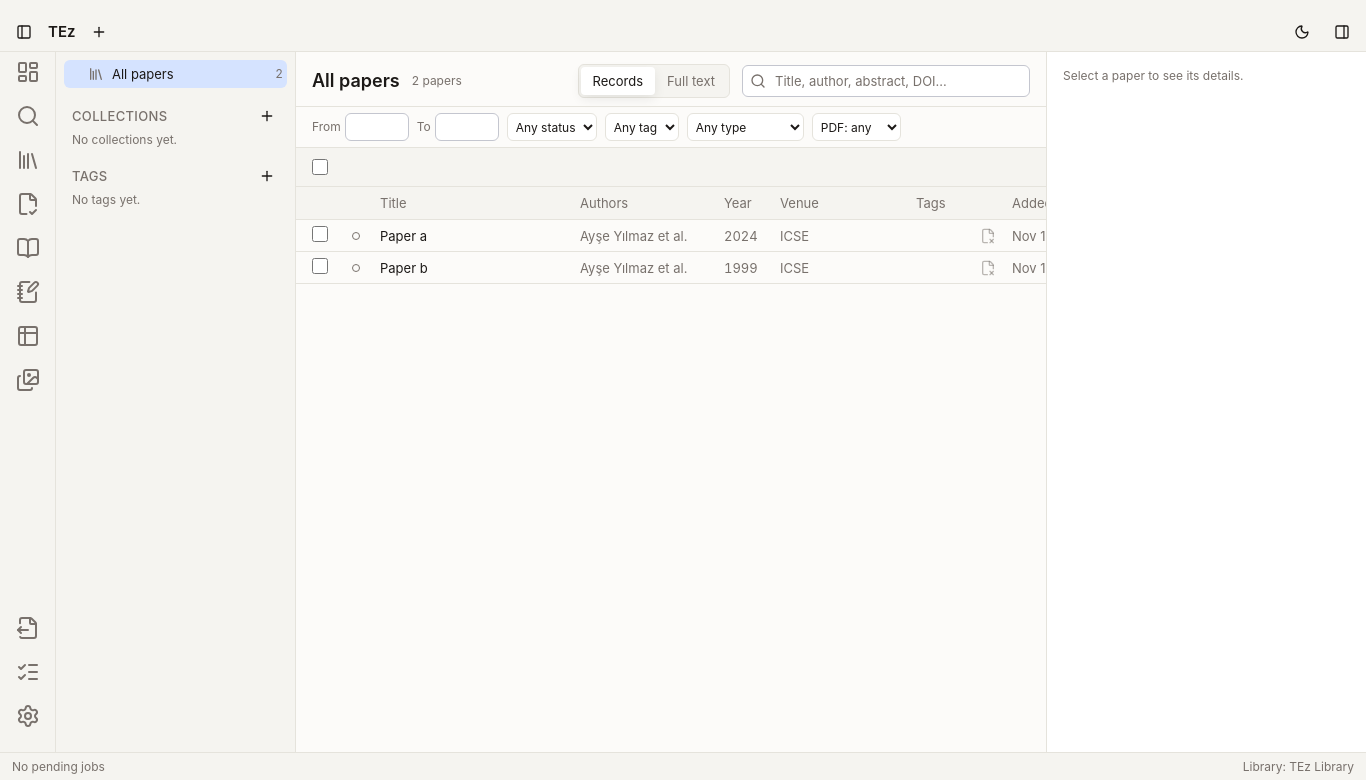
Test: full-text search › shows passages with their page; a passage opens the reader there
This screenshot has width=1366, height=780.
Click the radio button labelled "Full text": [691, 81] box [655,67,727,95]
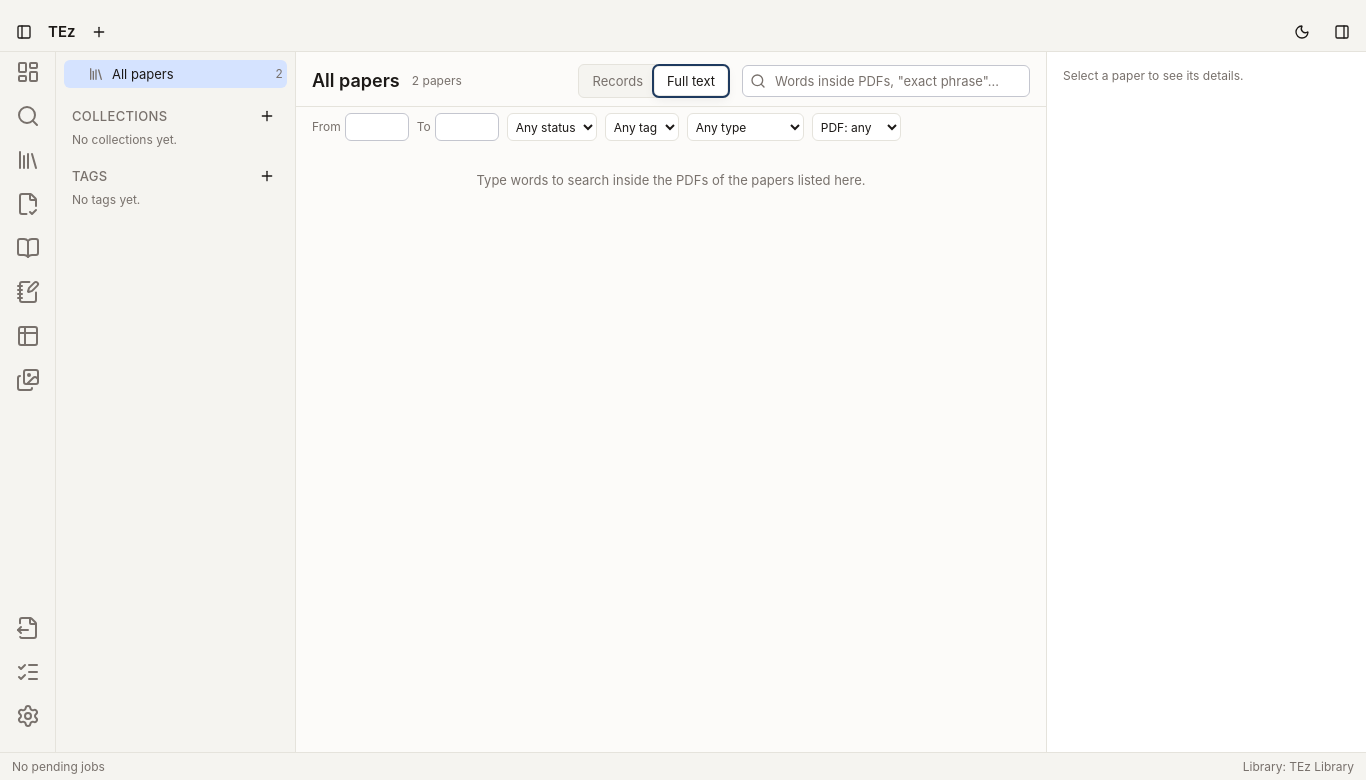
expect the text "Type words to search inside the PDFs" is shown: met, box [476,172,866,188]
In the search field named "Search the library": [886, 81] box [742,65,1030,97], type "grounded theory"
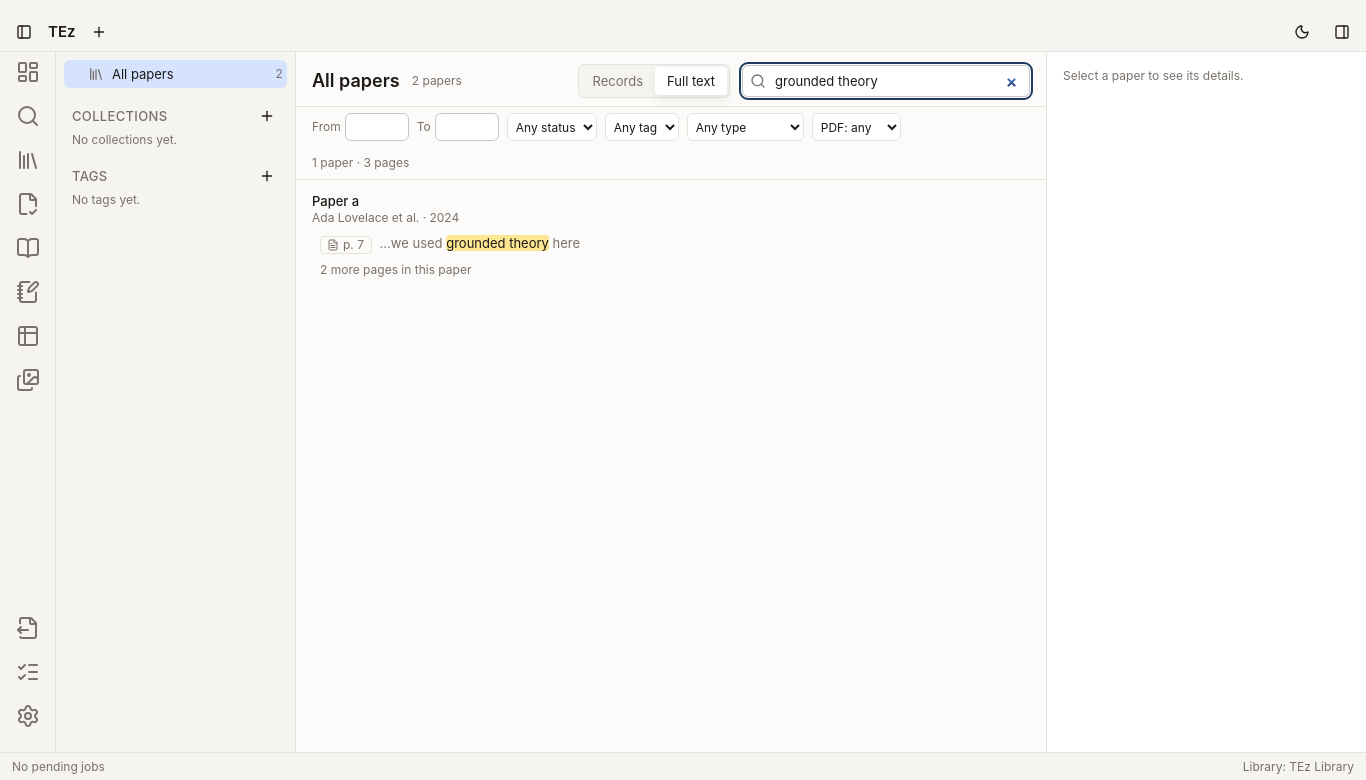
expect the text "2 more pages in this paper" is shown: met, box [320,262,471,277]
